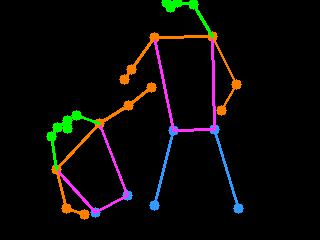normal: (112, 1, 260, 219)
